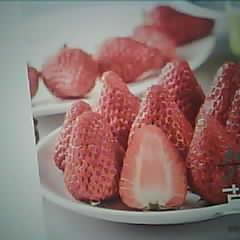straw-ripe: (64, 113, 122, 203)
